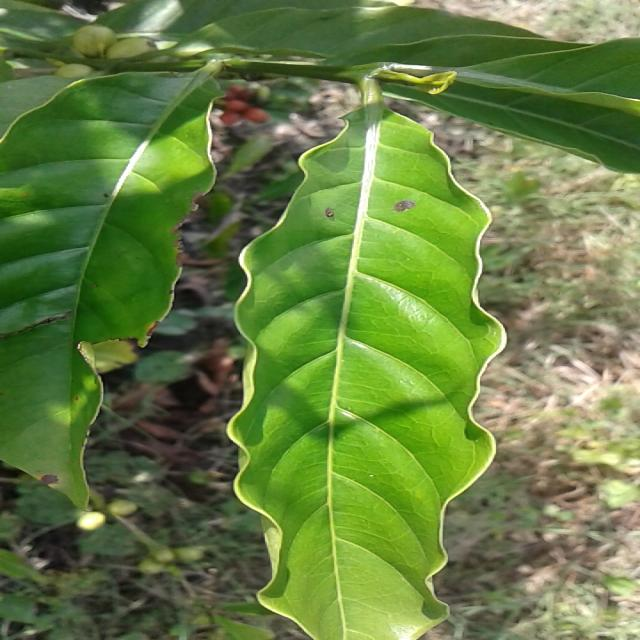Sanas: (225, 102, 508, 640)
